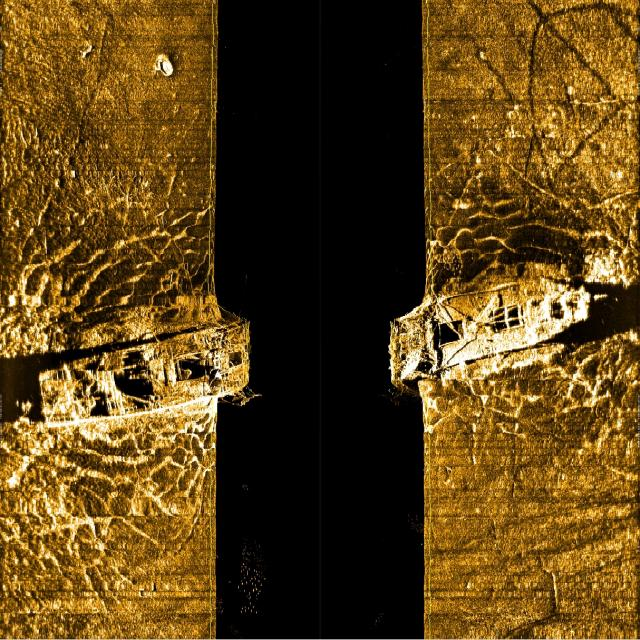ship: (34, 305, 254, 422), (386, 280, 592, 389)
